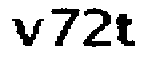2: (81, 6, 114, 51)
7: (48, 6, 79, 49)
t: (116, 12, 143, 48)
v: (8, 16, 44, 48)
